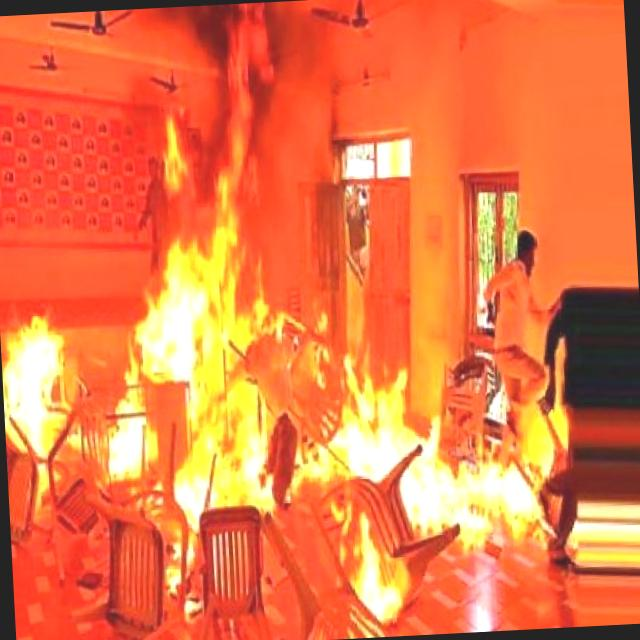fire: (27, 264, 456, 588)
